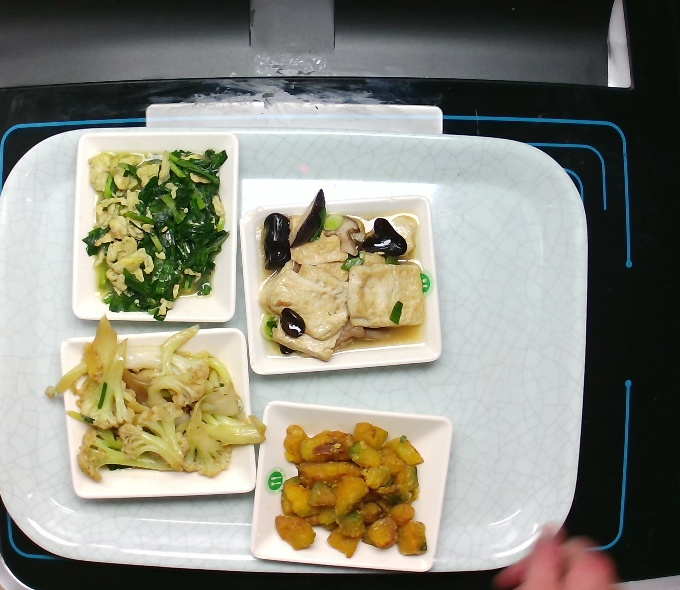wcq-DanHuangNanGua: (269, 413, 438, 562)
wcq-JiaChangDouFu: (250, 197, 428, 365)
wcq-JiuCaiJiDan: (82, 146, 231, 319)
wcq-QiuCai: (58, 315, 268, 480)
